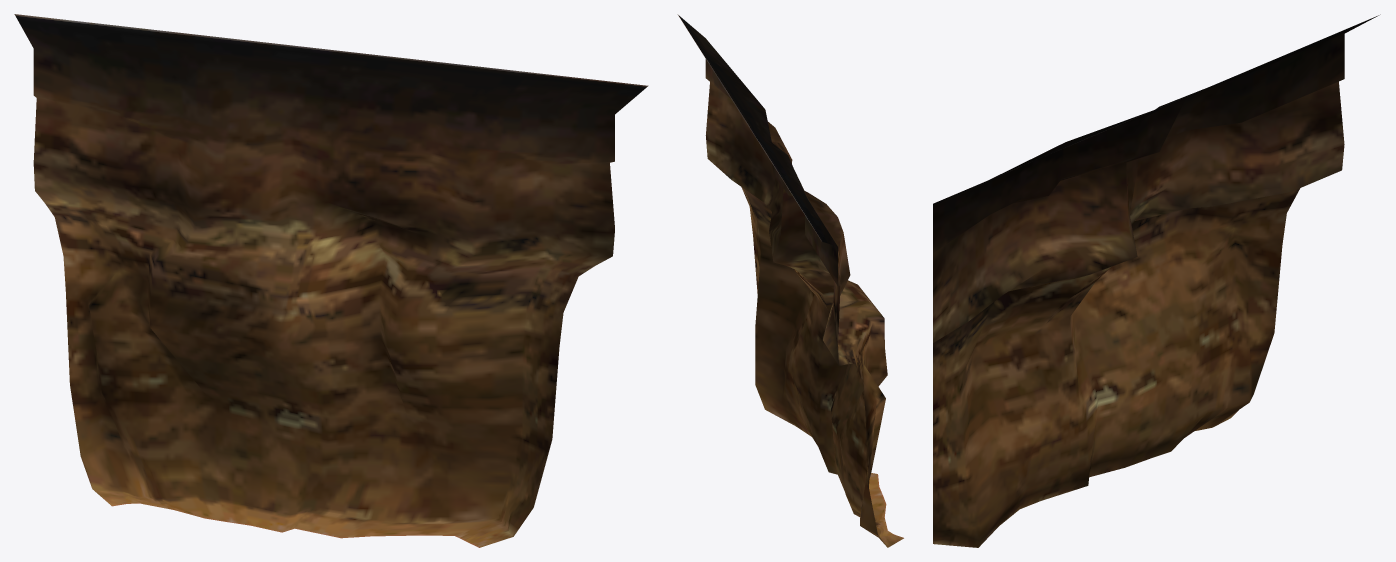
File: tunnelAngleA.fbx
The picture shows the model from 3 angles, left to right: view 1: azimuth 30°, elevation 25°; view 2: azimuth 150°, elevation 25°; view 3: azimuth 270°, elevation 25°; orthographic projection. The views are drawn at different scales.
Parts seen in each view (by area): view 1: tunnelAngleA; view 2: tunnelAngleA; view 3: tunnelAngleA.
Boxes of the visible parts, <box> form: tunnelAngleA: <box>14,14,648,547</box>; tunnelAngleA: <box>677,14,903,547</box>; tunnelAngleA: <box>933,14,1380,547</box>.
Size of the model in its own units: 300 by 300 by 300.
